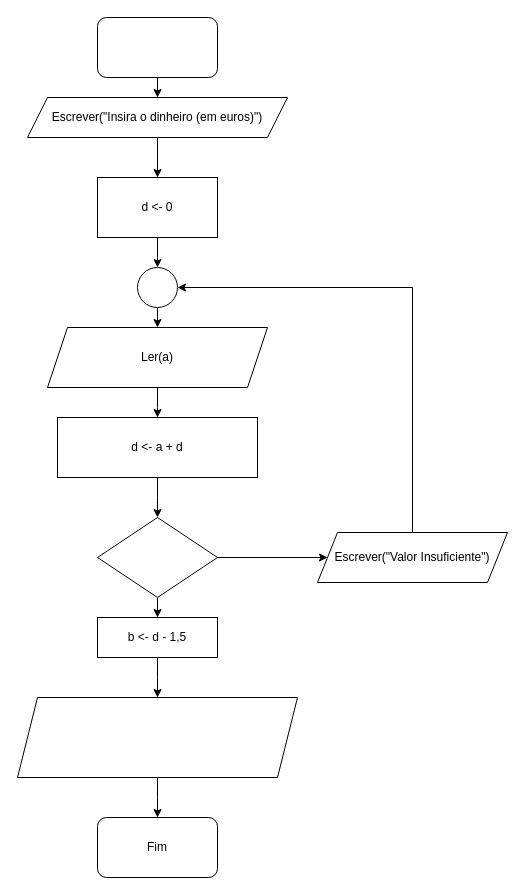
This 525x895 diagram has some shape labels left out. The box of each missing label's shape, as (x1, y1, x2, y2) in pixels:
d < 1,5 S N: (96, 516, 218, 598)
Escrever("Retire o bilhete e o troco") Escrever("O seu troco é: ",b): (16, 696, 298, 778)
Início: (96, 16, 218, 78)
